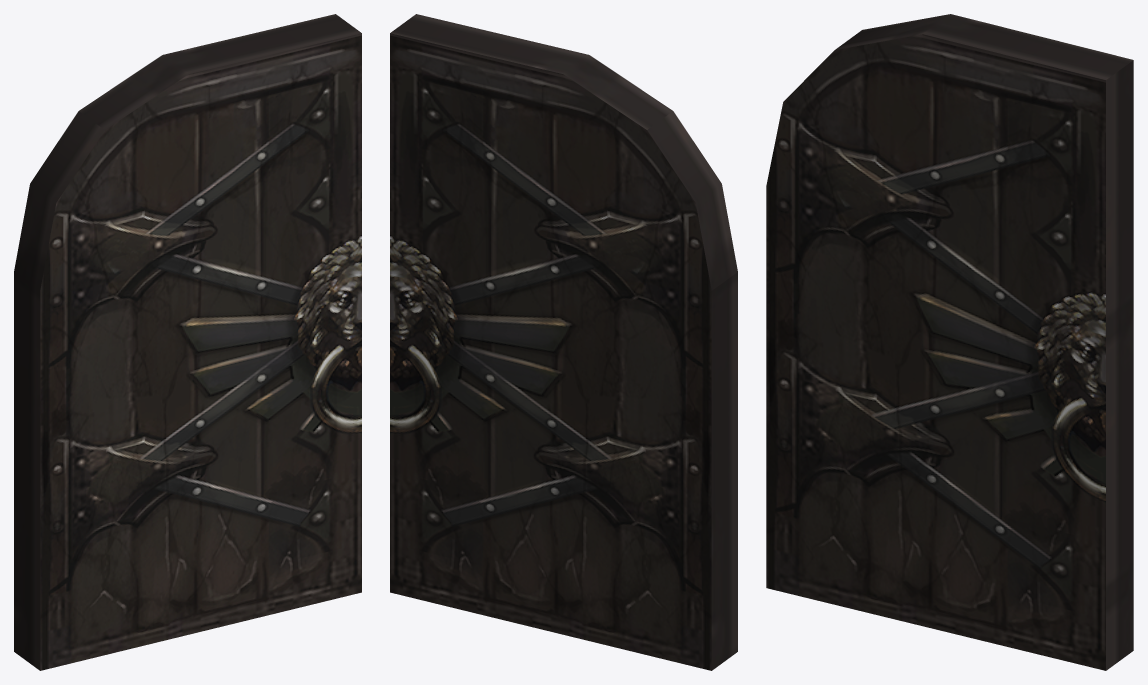
Rendered from gate_lion.FBX.
3 views of the same model, side by side, from view 1: azimuth 30°, elevation 25°; view 2: azimuth 150°, elevation 25°; view 3: azimuth 330°, elevation 25° (orthographic). The views are drawn at different scales.
Visible parts, largest first — view 1: gate_lion; view 2: gate_lion; view 3: gate_lion.
Part boxes in pixels (x1=…): gate_lion: x1=14, y1=14, x2=361, y2=670; gate_lion: x1=390, y1=14, x2=737, y2=670; gate_lion: x1=766, y1=14, x2=1133, y2=670.
Size of the model in its own units: 2.01 by 3.35 by 0.284.
Materials: 1 (1 with a texture image).
